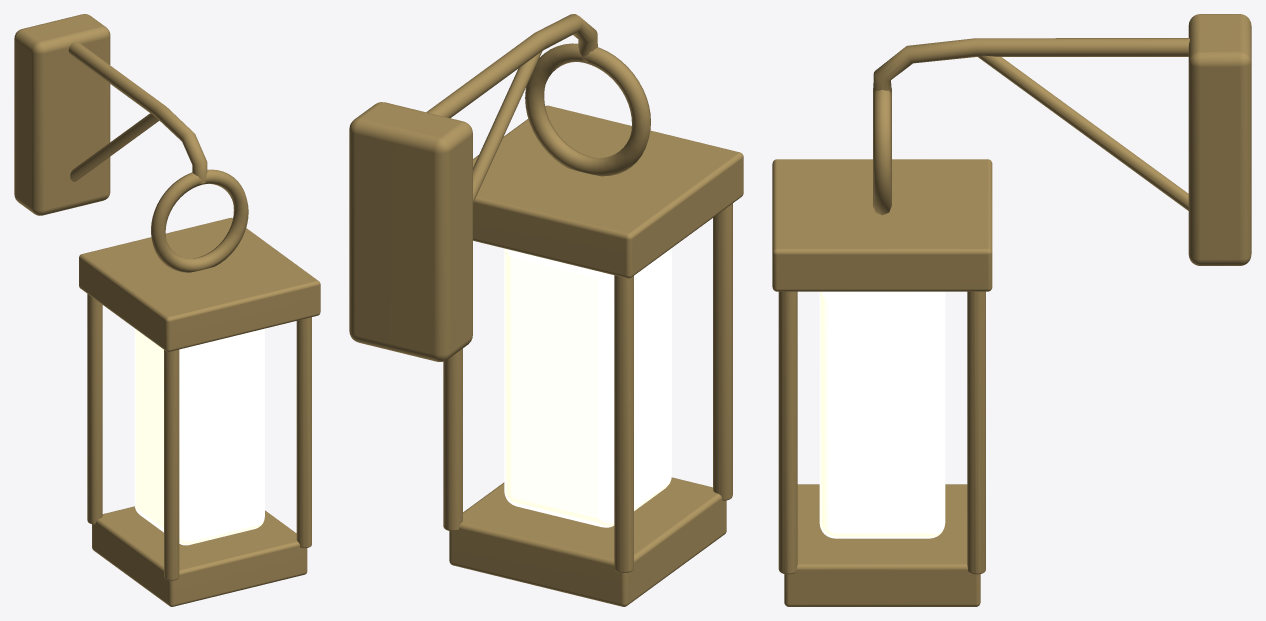
File: east.glb
The picture shows the model from 3 angles, left to right: view 1: azimuth 30°, elevation 25°; view 2: azimuth 150°, elevation 25°; view 3: azimuth 270°, elevation 25°; orthographic projection. The views are drawn at different scales.
Visible parts, largest first — view 1: wizards-workshop east; view 2: wizards-workshop east; view 3: wizards-workshop east.
Part boxes in pixels (x1=…): wizards-workshop east: x1=14, y1=14, x2=320, y2=606; wizards-workshop east: x1=349, y1=14, x2=743, y2=606; wizards-workshop east: x1=772, y1=14, x2=1251, y2=606.
Size of the model in its own units: 0.28 by 0.75 by 0.61.
